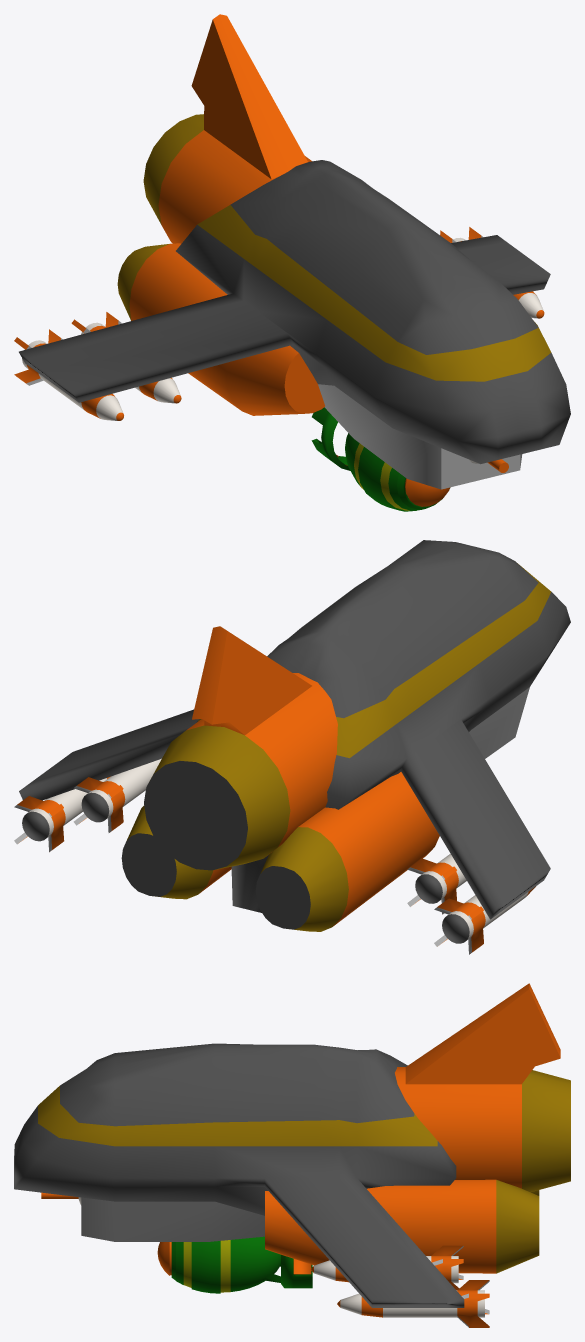
Rendered from Ship1.fbx.
The picture shows the model from 3 angles, top to bottom: view 1: azimuth 30°, elevation 25°; view 2: azimuth 150°, elevation 25°; view 3: azimuth 270°, elevation 25°; orthographic projection. The views are drawn at different scales.
Visible parts, largest first — view 1: Runko, Päämoottori, Apumoottori2, Ase1, Nuke3, Ohjus1, Ohjus3, pCylinder1, Ohjus2; view 2: Runko, Päämoottori, Apumoottori2, Apumoottori1, Ohjus4, Ohjus2, Ohjus1, Ohjus3, Ase1; view 3: Runko, Päämoottori, Apumoottori1, Ase1, Nuke3, Ohjus2, Ohjus4, pCylinder1.
Boxes of the visible parts, <box> form: Runko: <box>19,160,570,464</box>; Päämoottori: <box>143,14,311,243</box>; Apumoottori2: <box>117,243,324,415</box>; Ase1: <box>318,384,522,489</box>; Nuke3: <box>337,433,450,511</box>; Ohjus1: <box>14,329,123,420</box>; Ohjus3: <box>71,312,181,403</box>; pCylinder1: <box>311,407,350,470</box>; Ohjus2: <box>453,227,544,318</box>; Runko: <box>19,540,570,919</box>; Päämoottori: <box>144,626,337,870</box>; Apumoottori2: <box>255,772,439,931</box>; Apumoottori1: <box>121,805,231,899</box>; Ohjus4: <box>73,758,161,832</box>; Ohjus2: <box>14,776,110,852</box>; Ohjus1: <box>434,886,535,954</box>; Ohjus3: <box>407,854,466,914</box>; Ase1: <box>469,687,529,758</box>; Runko: <box>14,1043,464,1307</box>; Päämoottori: <box>395,983,570,1192</box>; Apumoottori1: <box>265,1179,539,1273</box>; Ase1: <box>81,1197,264,1241</box>; Nuke3: <box>157,1236,280,1293</box>; Ohjus2: <box>337,1280,489,1327</box>; Ohjus4: <box>311,1245,463,1290</box>; pCylinder1: <box>281,1254,312,1288</box>.
Size of the model in its own units: 5.53 by 3.94 by 6.49.
